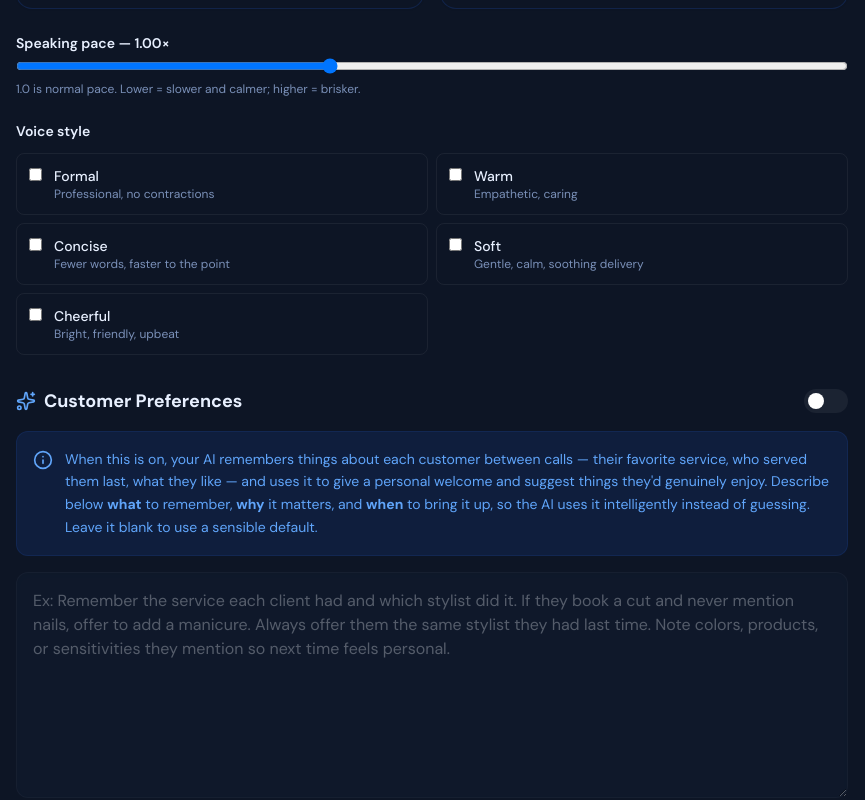
Scenario: AIConfigView — Customer Preferences › HAPPY: textarea is disabled until the toggle is turned on, then enabled
(page scrolled)
Expected: the text box with test id "preferences-instructions" is disabled, x1=16 y1=572 x2=848 y2=798
Click the switch named "save customer preferences" at x=826, y=400, box x1=804 y1=388 x2=848 y2=412
(page scrolled)
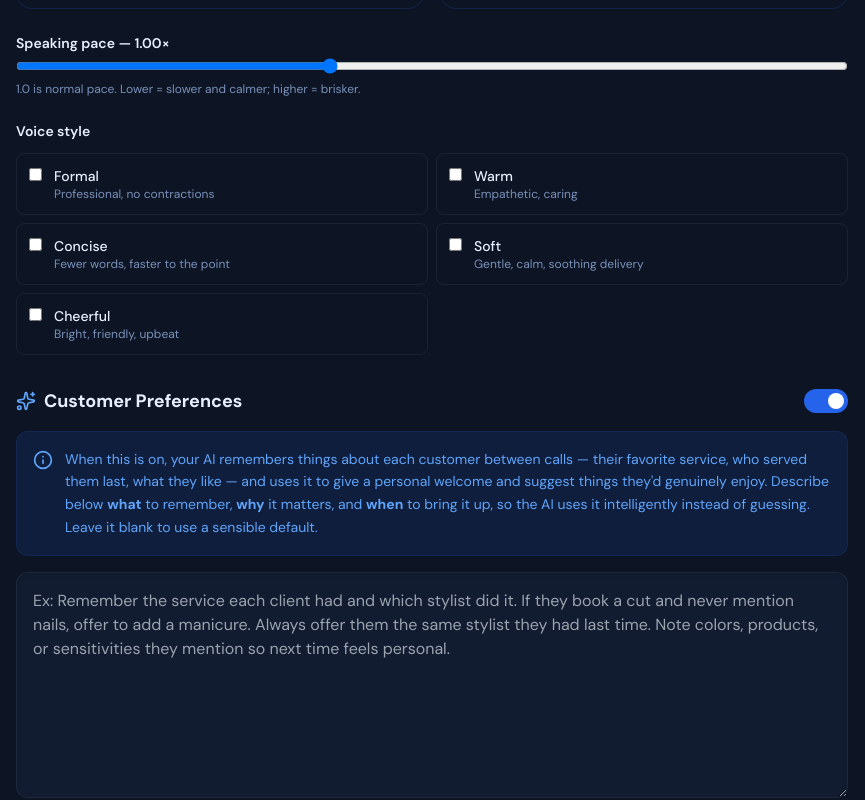
Result: the text box with test id "preferences-instructions" is enabled at x1=16 y1=572 x2=848 y2=798
